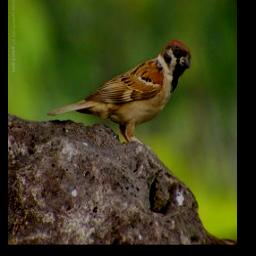Sparrow: (45, 35, 197, 148)
